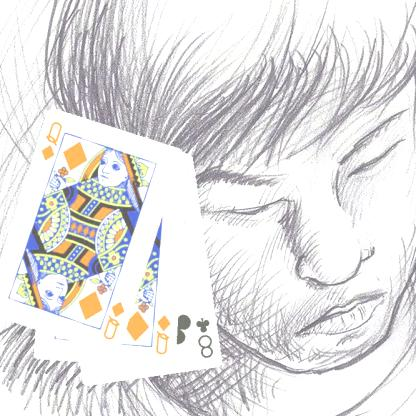8C: (193, 315, 216, 360)
QD: (100, 298, 127, 342), (38, 119, 64, 162), (153, 312, 173, 357)
